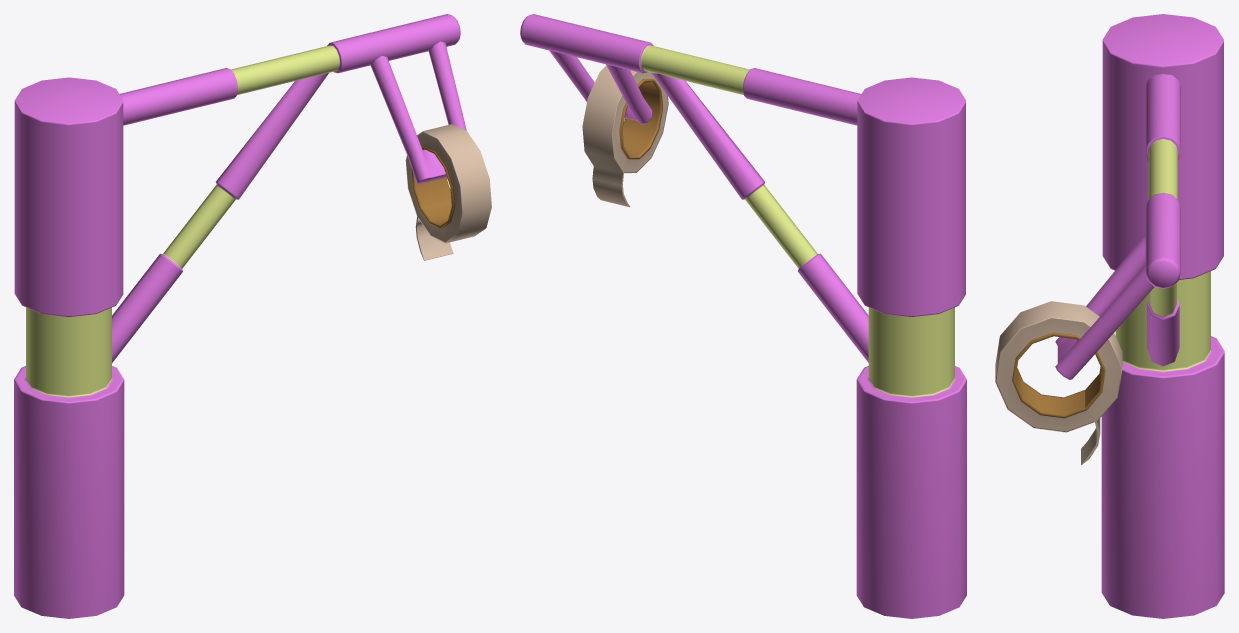
File: Bander.fbx
3 renders of one model, left to right at view 1: azimuth 30°, elevation 25°; view 2: azimuth 150°, elevation 25°; view 3: azimuth 270°, elevation 25°, orthographic. The views are drawn at different scales.
Visible parts, largest first — view 1: Band_Platform; view 2: Band_Platform; view 3: Band_Platform.
Part boxes in pixels (x1,y1,x2,y2): Band_Platform: (14,14,491,618); Band_Platform: (520,14,966,618); Band_Platform: (995,14,1224,618).
Size of the model in its own units: 6.08 by 6.67 by 2.49.
